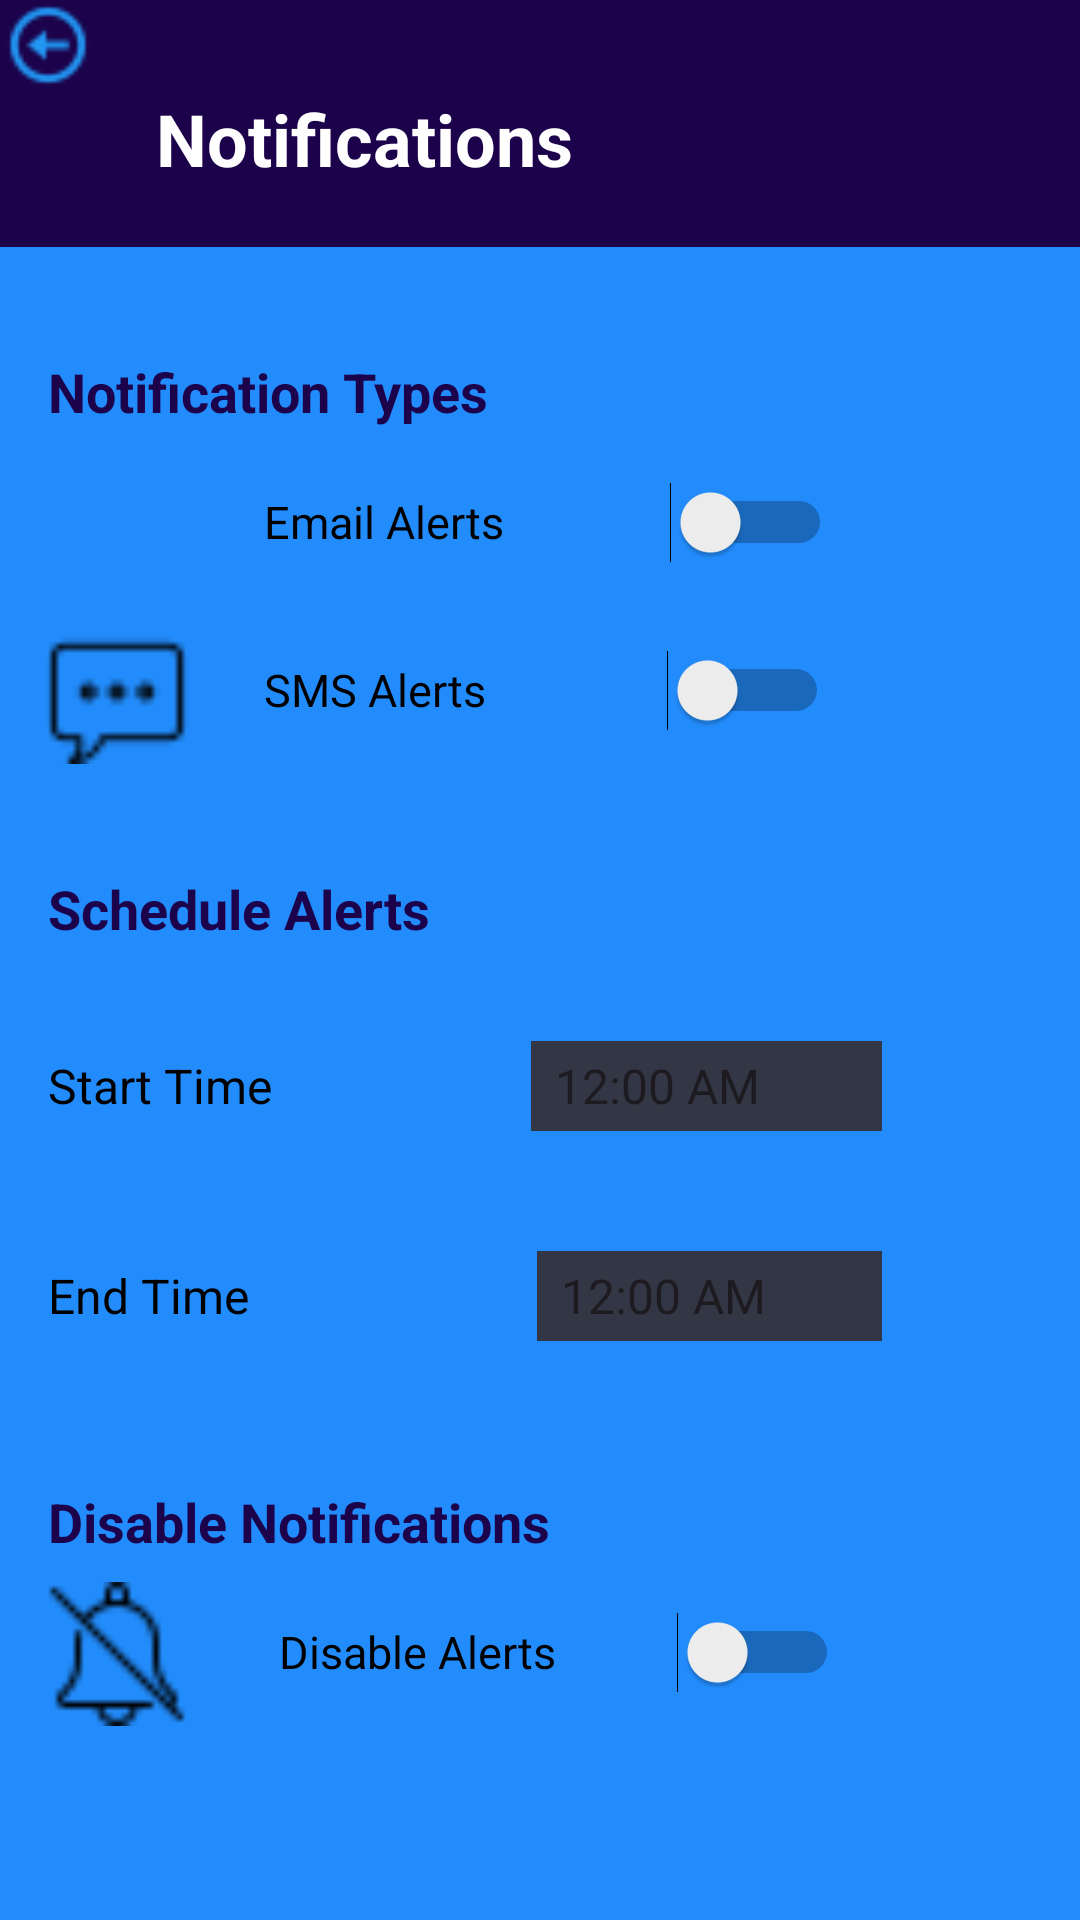

Icons on this 1080 × 1920 Android screen, each with its box as bbox=[x1, y1, x2, y2]:
back: bbox=[9, 6, 87, 84]
